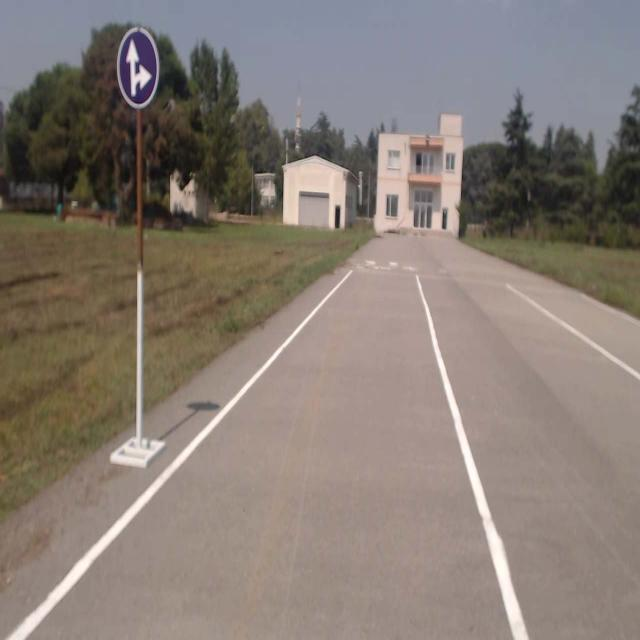ilerisag: (114, 24, 160, 113)
